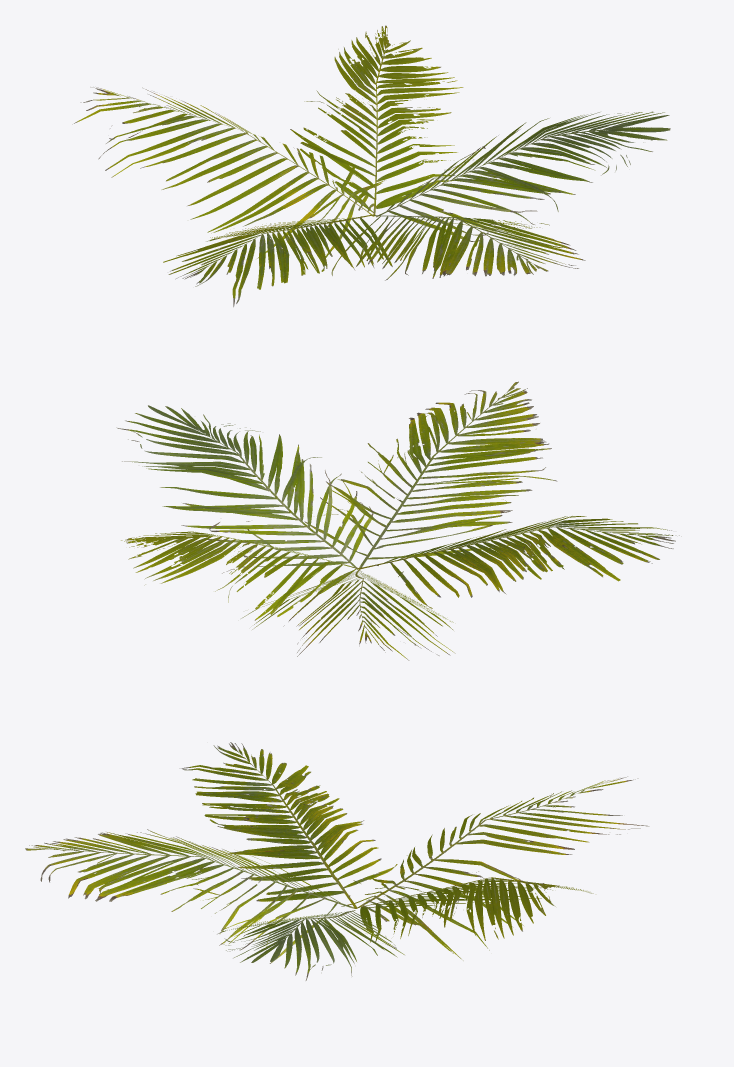
Rendered from palm_bush_2.fbx.
3 renders of one model, top to bottom at view 1: azimuth 30°, elevation 25°; view 2: azimuth 150°, elevation 25°; view 3: azimuth 270°, elevation 25°, orthographic.
Parts seen in each view (by area): view 1: Cylinder.001; view 2: Cylinder.001; view 3: Cylinder.001.
Boxes of the visible parts, x1,y1,x2,y2 form: Cylinder.001: (72, 25, 670, 307); Cylinder.001: (116, 381, 681, 660); Cylinder.001: (25, 742, 649, 980).
Bounding box in the file's own units: 221 × 40.93 × 203.
1 material, 1 textured.
